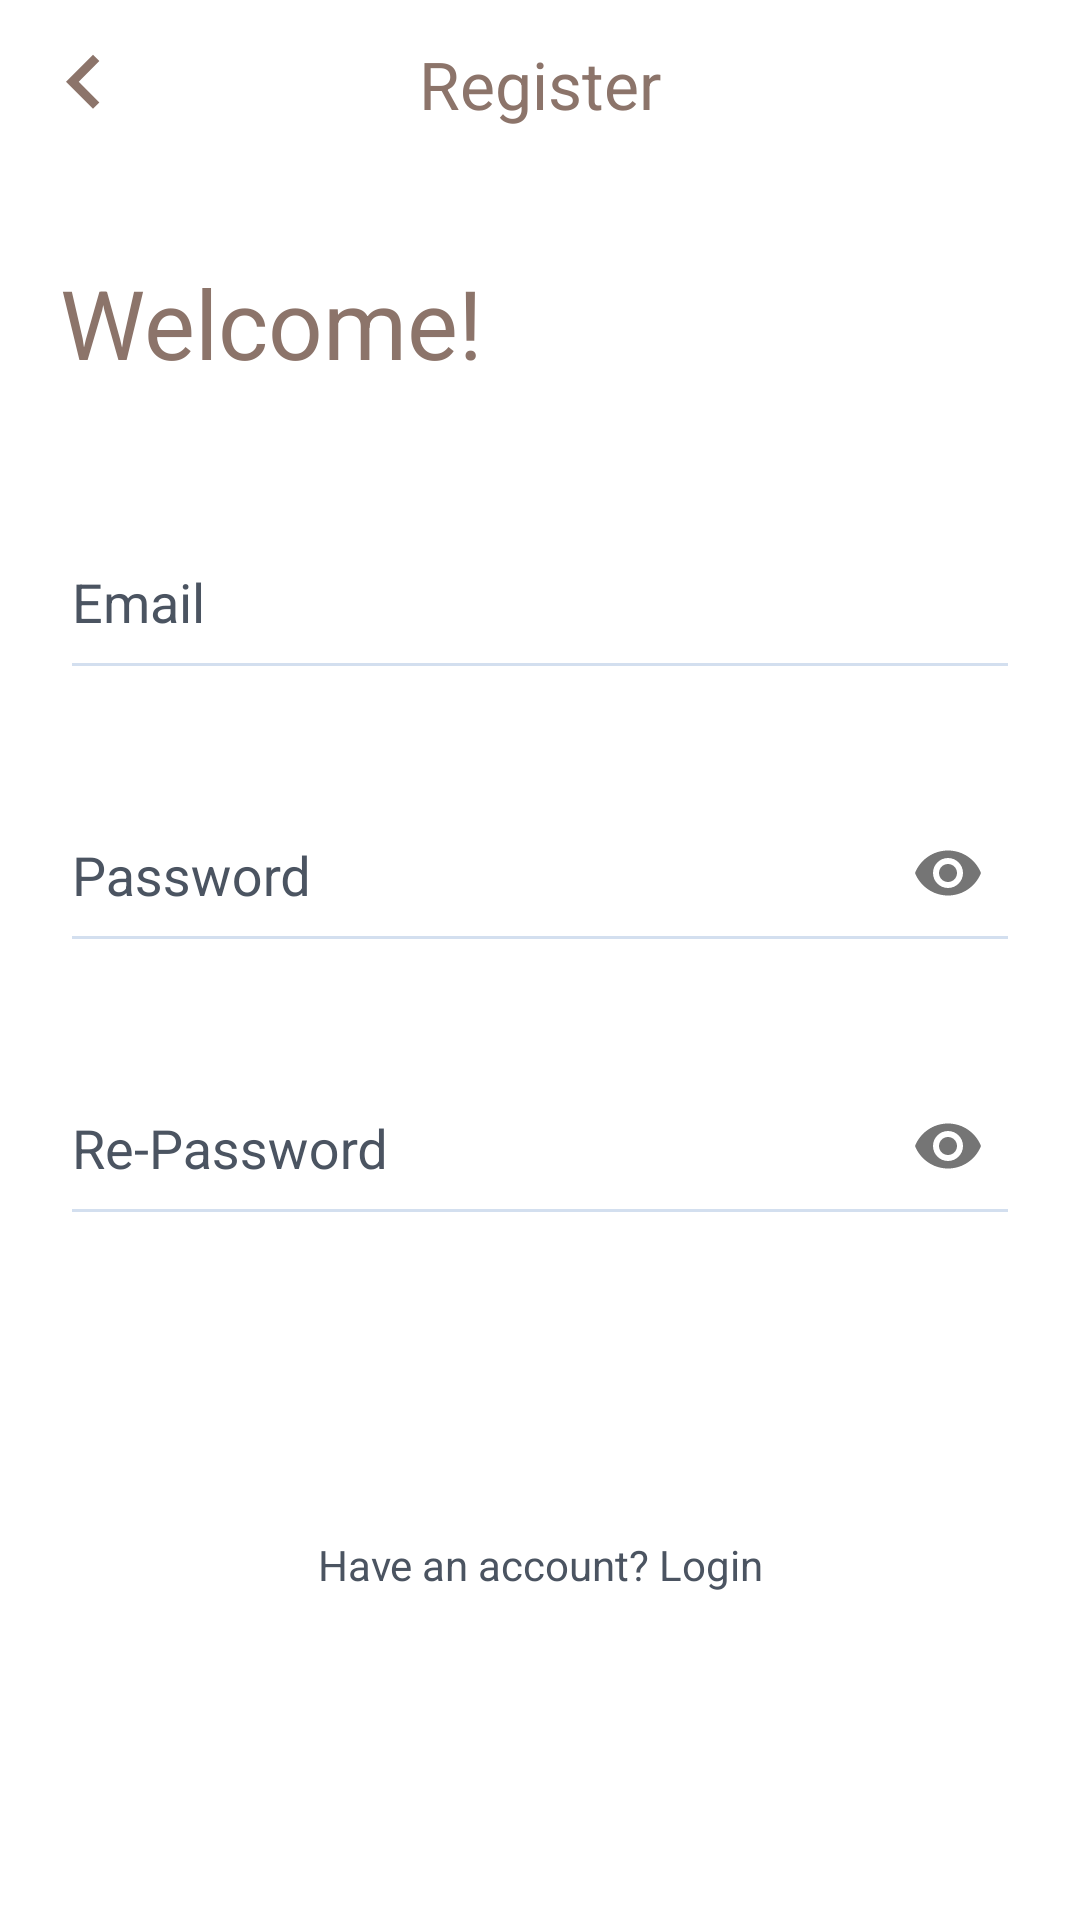

Where to tap for icons on this 1080px x 1920px app screen, as (x,y):
all back: (82,82)
